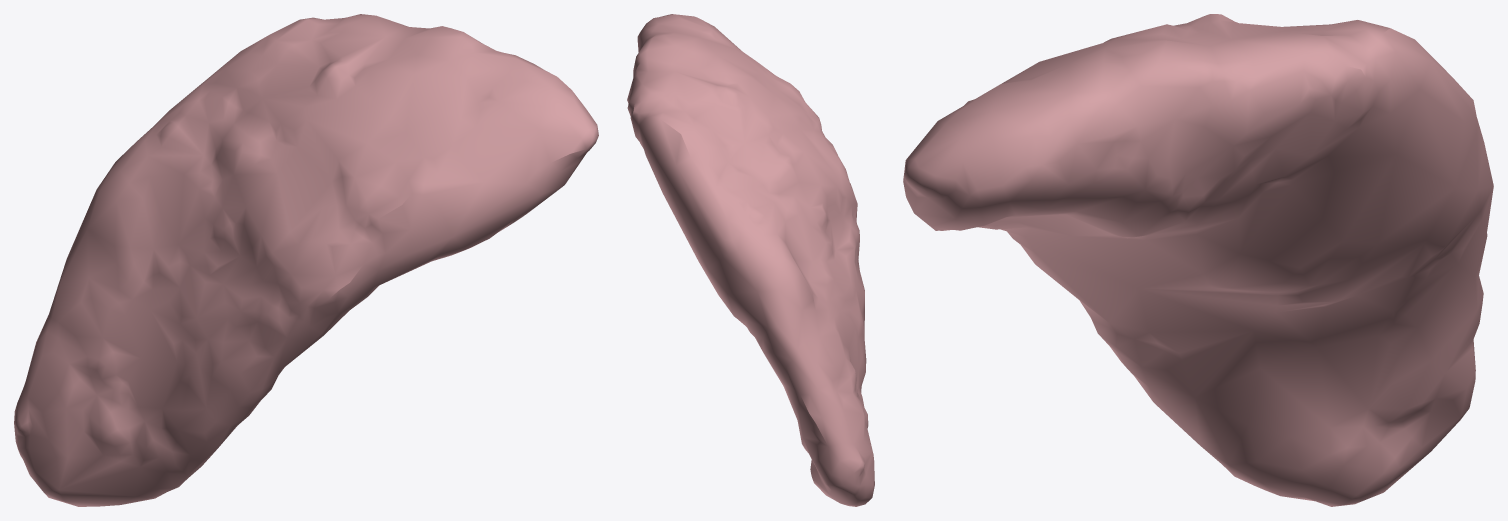
Rendered from fma59102_fj1350.glb.
3 views of the same model, side by side, from view 1: azimuth 30°, elevation 25°; view 2: azimuth 150°, elevation 25°; view 3: azimuth 270°, elevation 25° (orthographic). The views are drawn at different scales.
Parts seen in each view (by area): view 1: FMA59102_FJ1350; view 2: FMA59102_FJ1350; view 3: FMA59102_FJ1350.
Boxes of the visible parts, bbox=[...] form: FMA59102_FJ1350: bbox=[14, 14, 598, 506]; FMA59102_FJ1350: bbox=[627, 14, 874, 506]; FMA59102_FJ1350: bbox=[903, 14, 1493, 506].
Bounding box in the file's own units: 0.0148 × 0.0152 × 0.0124.
